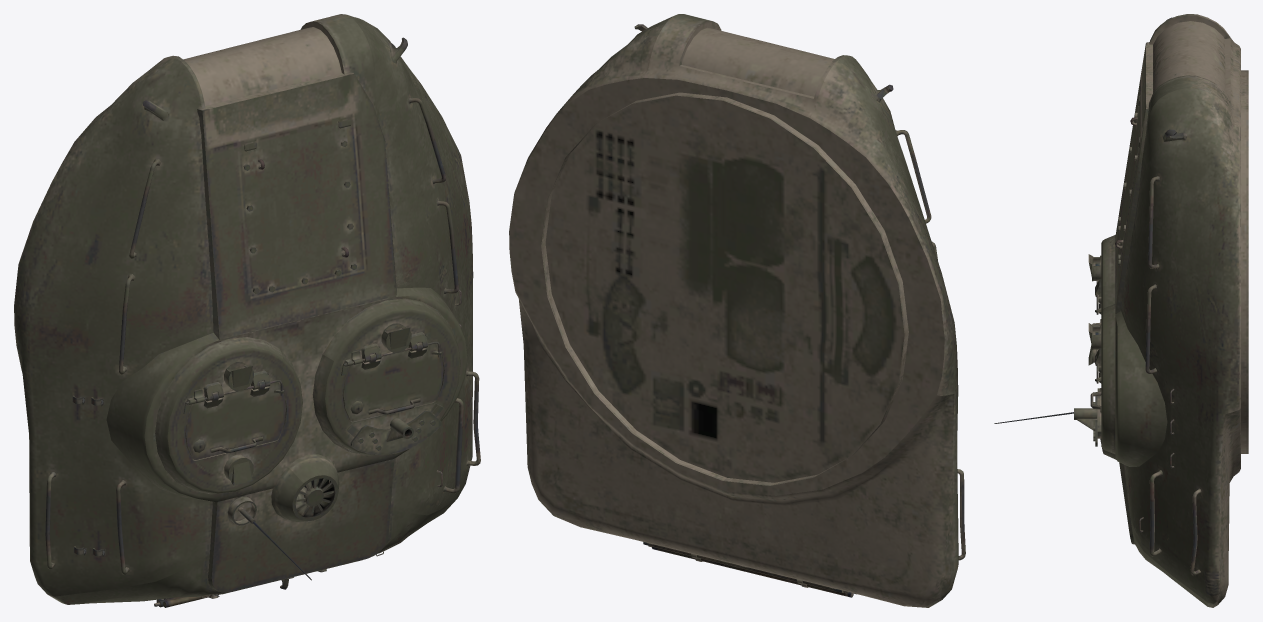
Rendered from Turret_01.glb.
3 views of the same model, side by side, from view 1: azimuth 30°, elevation 25°; view 2: azimuth 150°, elevation 25°; view 3: azimuth 270°, elevation 25° (orthographic). The views are drawn at different scales.
Visible parts, largest first — view 1: set_0_group_0; view 2: set_0_group_0; view 3: set_0_group_0.
Boxes of the visible parts, box(x1,y1,x2,y2) form: set_0_group_0: box(14, 14, 480, 607); set_0_group_0: box(509, 14, 965, 607); set_0_group_0: box(994, 14, 1248, 607).
Size of the model in its own units: 2.54 by 2.95 by 1.39.
1 material, 1 textured.
